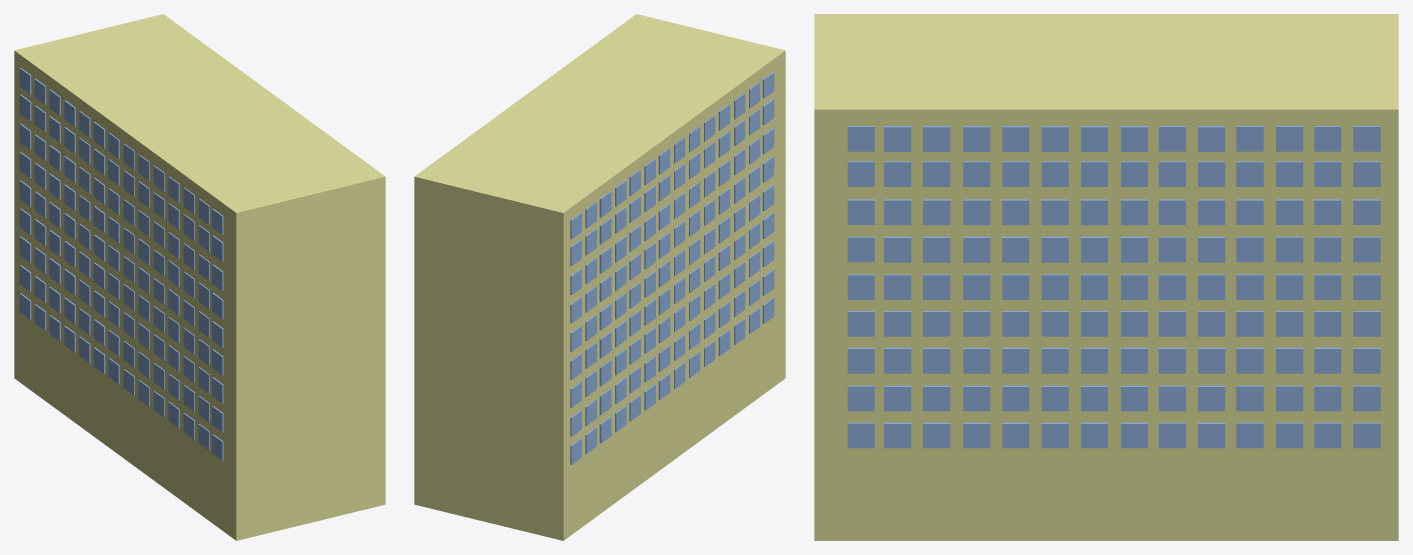
Rendered from block2.fbx.
3 views of the same model, side by side, from view 1: azimuth 30°, elevation 25°; view 2: azimuth 150°, elevation 25°; view 3: azimuth 270°, elevation 25° (orthographic). The views are drawn at different scales.
Parts seen in each view (by area): view 1: Cube, Cube.125; view 2: Cube, Cube.125; view 3: Cube, Cube.001.
Part boxes in pixels (x1=…): Cube: x1=14, y1=14, x2=385, y2=540; Cube.125: x1=19, y1=68, x2=223, y2=460; Cube: x1=414, y1=14, x2=785, y2=540; Cube.125: x1=570, y1=72, x2=774, y2=464; Cube: x1=814, y1=14, x2=1398, y2=540; Cube.001: x1=847, y1=126, x2=1380, y2=448.
Size of the model in its own units: 120 by 246 by 302.
